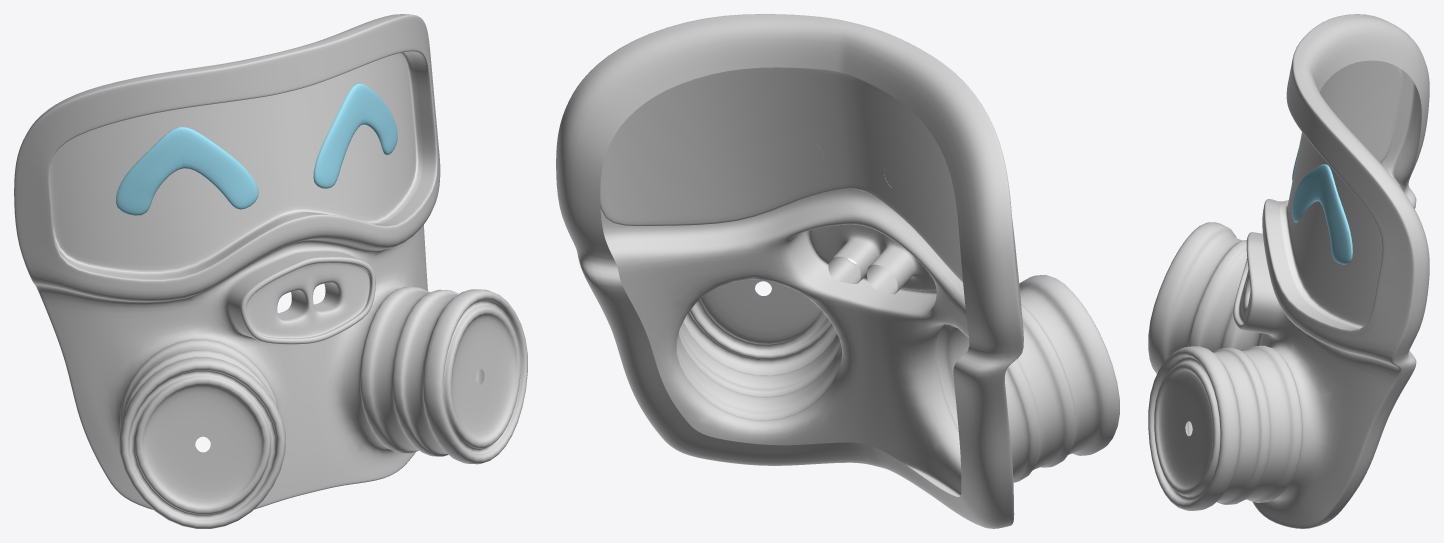
The model's file is Gasmask.gltf.
3 renders of one model, left to right at view 1: azimuth 30°, elevation 25°; view 2: azimuth 150°, elevation 25°; view 3: azimuth 270°, elevation 25°, orthographic. The views are drawn at different scales.
Parts seen in each view (by area): view 1: mask01-PBR, mask01-PBR.1, mask01-PBR.2; view 2: mask01-PBR, mask01-PBR.1; view 3: mask01-PBR, mask01-PBR.1, mask01-PBR.2.
Boxes of the visible parts, left/top/right/bottom form: mask01-PBR: left=14, top=14, right=527, bottom=528; mask01-PBR.1: left=49, top=52, right=422, bottom=275; mask01-PBR.2: left=115, top=83, right=397, bottom=215; mask01-PBR: left=556, top=14, right=1119, bottom=528; mask01-PBR.1: left=600, top=67, right=962, bottom=282; mask01-PBR: left=1148, top=14, right=1429, bottom=528; mask01-PBR.1: left=1280, top=60, right=1402, bottom=328; mask01-PBR.2: left=1292, top=148, right=1352, bottom=264.
Size of the model in its own units: 6.11 by 5.98 by 3.73.
